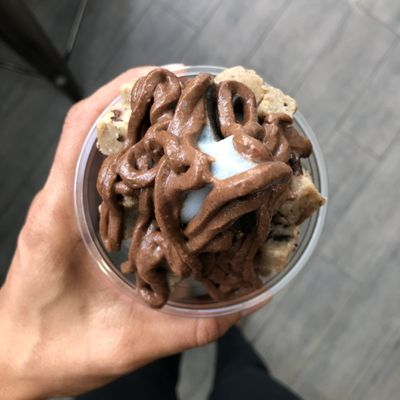sushi: (49, 62, 327, 321)
